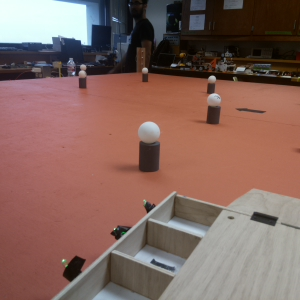corner: (136, 47, 145, 70)
obstacle: (138, 120, 160, 171), (208, 94, 220, 124), (208, 74, 217, 95), (78, 71, 87, 88), (141, 68, 149, 82)
side: (37, 192, 195, 300)
start: (236, 104, 266, 116)
